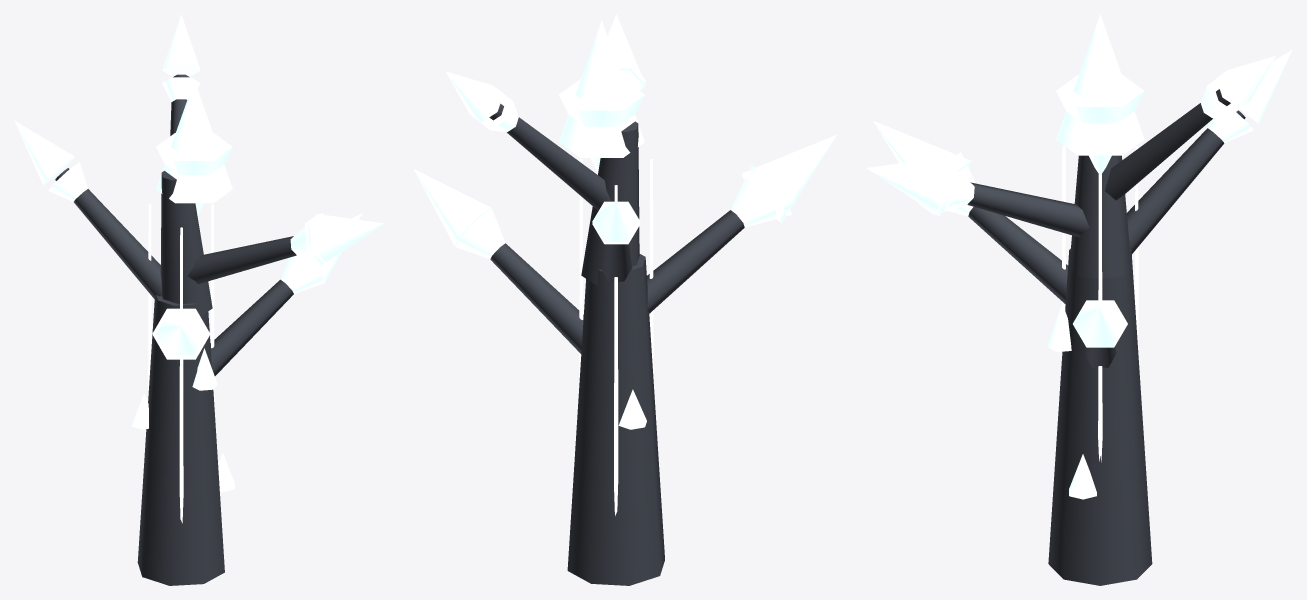
The model's file is crystal_metal_tree_001.glb.
3 views of the same model, side by side, from view 1: azimuth 30°, elevation 25°; view 2: azimuth 150°, elevation 25°; view 3: azimuth 270°, elevation 25° (orthographic). The views are drawn at different scales.
Parts seen in each view (by area): view 1: Trunk, TrunkTop, CrownUp, Tilt3, Tilt, Tilt4, CrystalUp4, CrystalUp2, CrownDown, CrystalUp3, CrystalUp5, CrystalDown (+7 smaller); view 2: Trunk, CrownUp, TrunkTop, Tilt2, Tilt, Tilt5, CrystalUp2, CrystalUp, CrownDown, CrystalDown2, CrystalUp5, CrystalUp3 (+8 smaller); view 3: Trunk, CrownUp, TrunkTop, Tilt3, Tilt4, Tilt5, Tilt2, CrystalUp4, CrownDown, CrystalUp, CrystalUp5, CrystalUp2 (+8 smaller).
Part boxes in pixels (x1,y1,x2,y2): Trunk: (137,295,224,585); TrunkTop: (160,171,212,316); CrownUp: (156,80,232,203); Tilt3: (55,168,162,298); Tilt: (210,279,293,375); Tilt4: (187,236,296,284); CrystalUp4: (305,214,384,264); CrystalUp2: (152,312,210,359); CrownDown: (156,133,232,216); CrystalUp3: (14,121,74,185); CrystalUp5: (162,14,200,76); CrystalDown: (280,255,324,293); Trunk: (567,254,664,585); CrownUp: (559,20,644,157); TrunkTop: (581,121,639,284); Tilt2: (647,210,744,313); Tilt: (490,243,583,353); Tilt5: (489,103,611,210); CrystalUp2: (741,134,837,222); CrystalUp: (413,169,490,245); CrownDown: (559,79,644,172); CrystalDown2: (730,165,791,227); CrystalUp5: (445,71,503,122); CrystalUp3: (592,201,640,241); Trunk: (1048,248,1152,585); CrownUp: (1056,14,1144,155); TrunkTop: (1069,155,1131,278); Tilt3: (1127,110,1245,253); Tilt4: (967,182,1089,237); Tilt5: (1105,89,1230,200); Tilt2: (968,207,1067,304); CrystalUp4: (866,157,958,215); CrownDown: (1056,74,1144,172); CrystalUp: (1073,300,1127,347); CrystalUp5: (1216,56,1275,108); CrystalUp2: (873,121,971,171).
Size of the model in its own units: 2.15 by 3.55 by 2.46.
